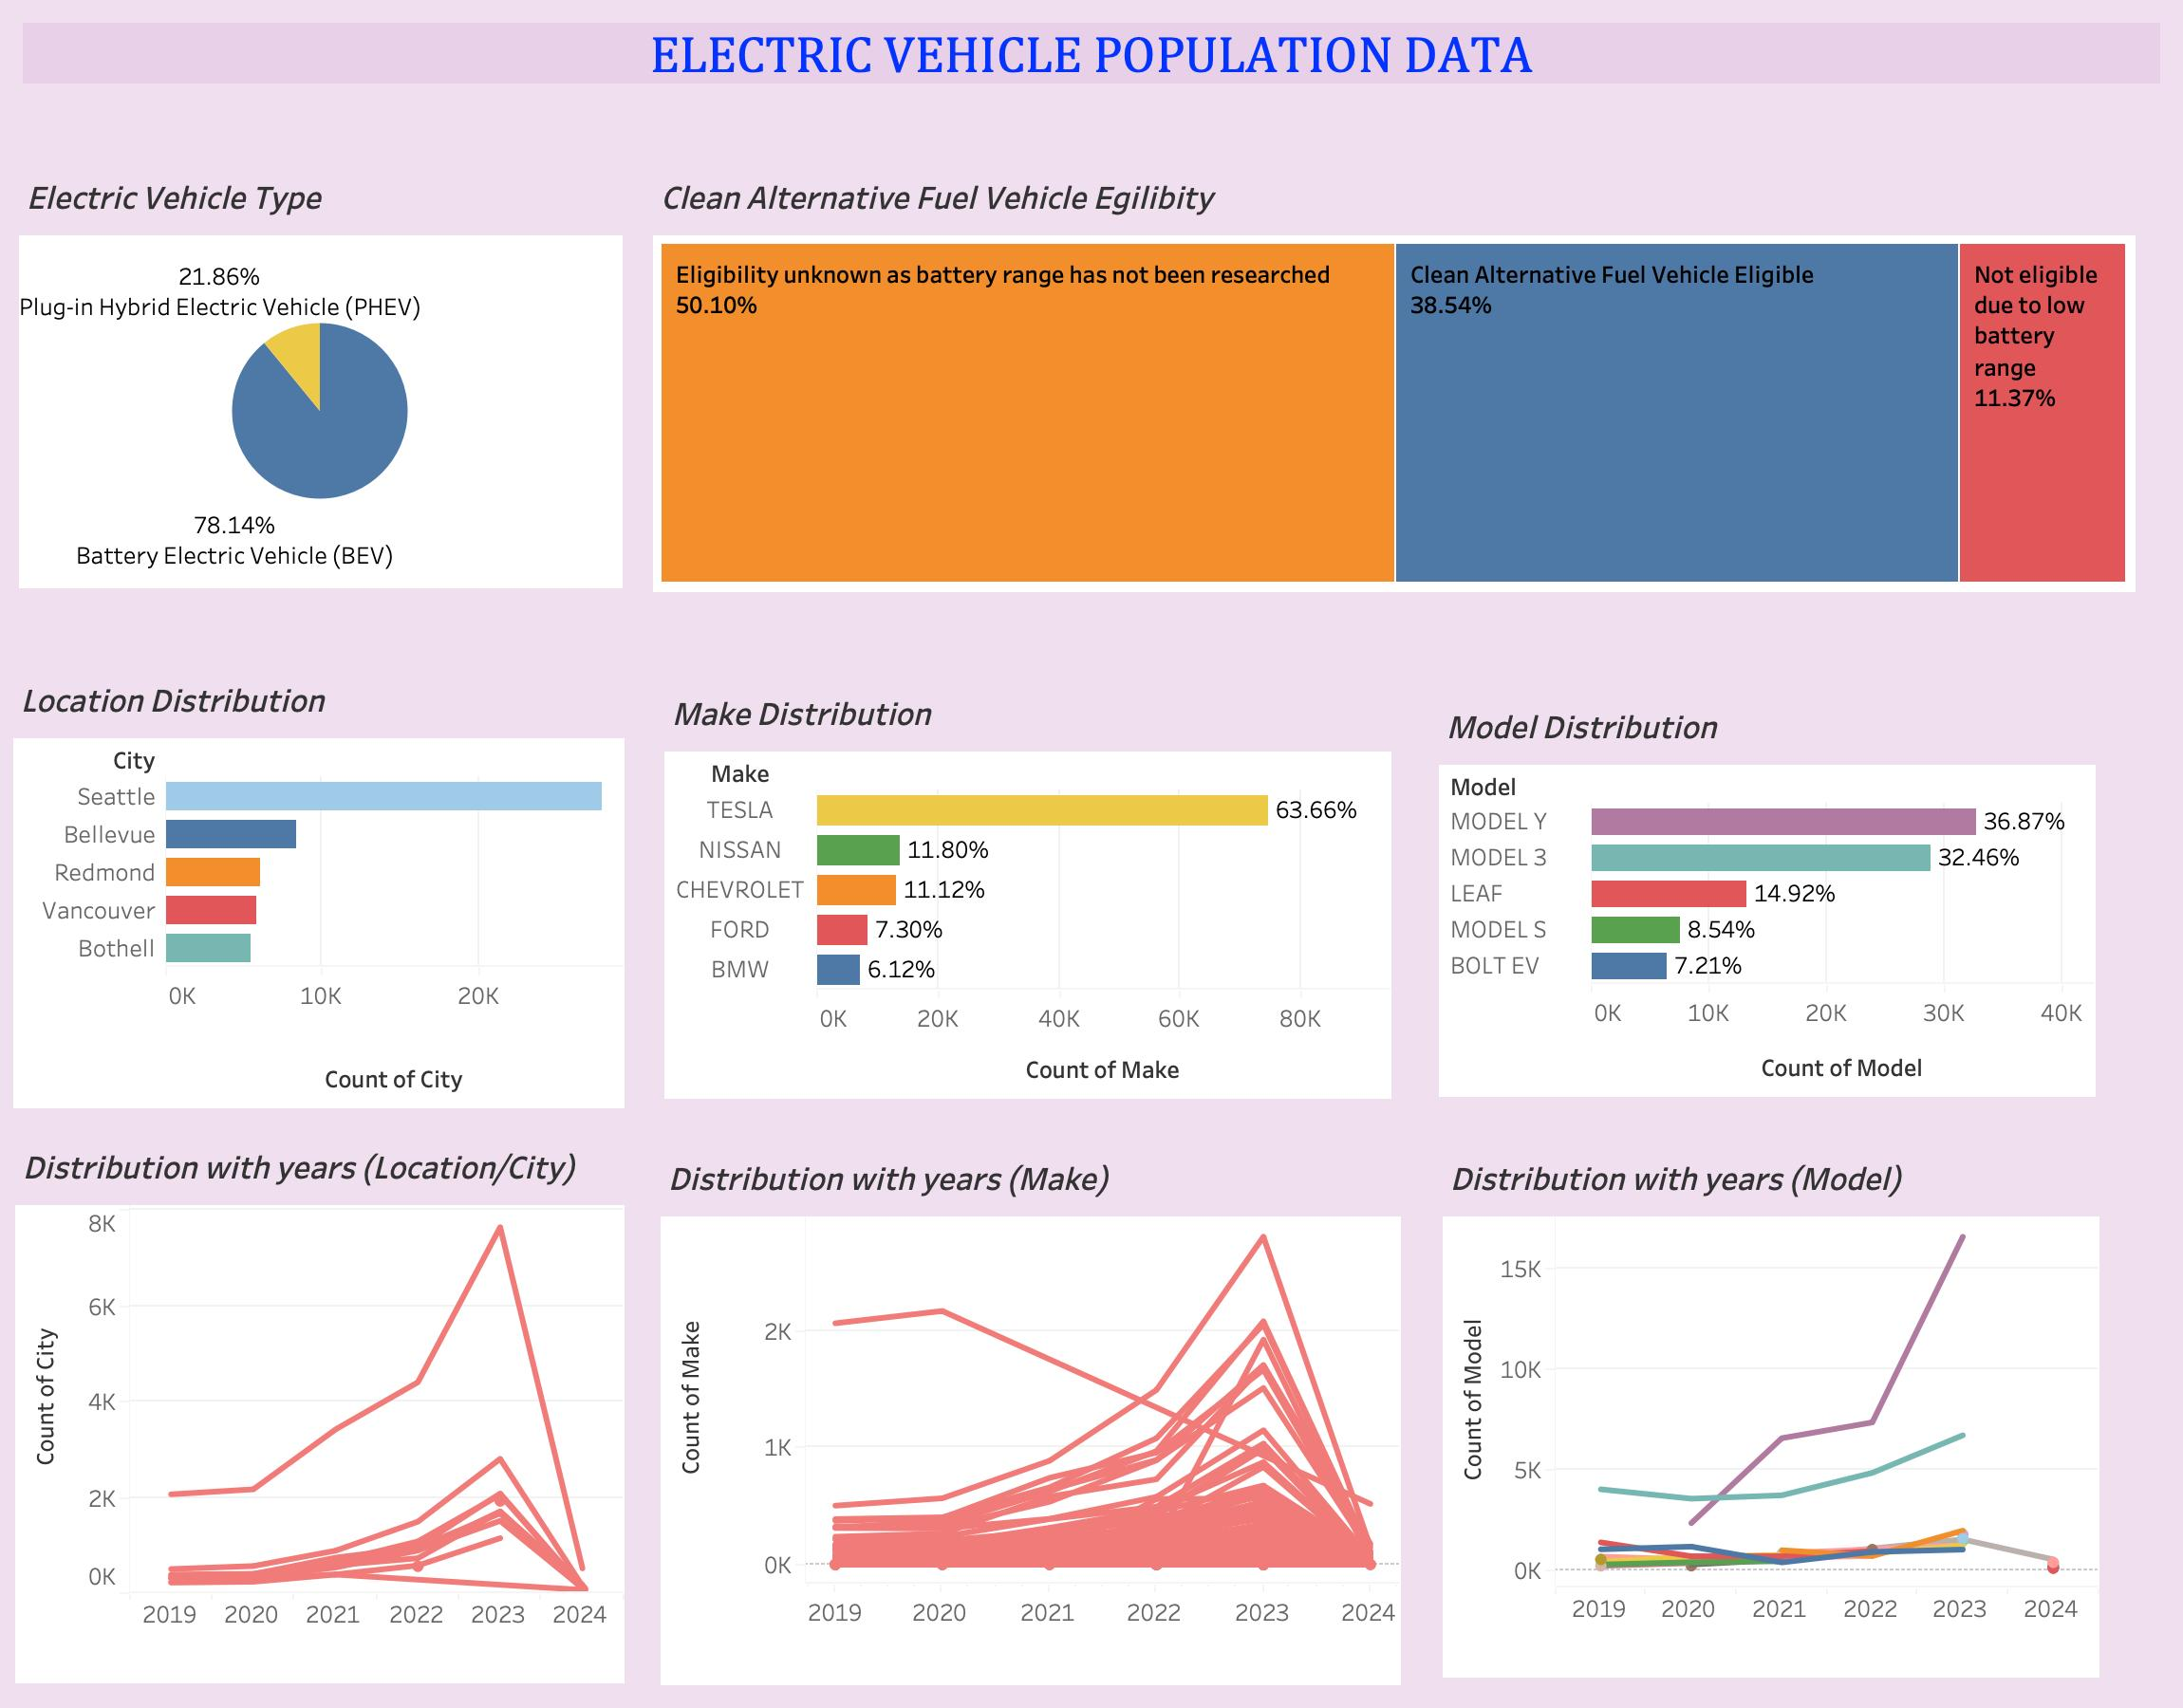

Layout of this report page (visuals, bound fields, positions):
{"tool":"tableau","page":{"name":"Dashboard 1","canvas":[1150,900],"ordinal":0},"visuals":[{"type":"title","box":[8,8,1134,40]},{"type":"worksheet","title":"Sheet 3","mark":"Automatic","box":[344,85,802,276]},{"type":"worksheet","title":"Sheet 2","mark":"Pie","box":[10,87,345,262]},{"type":"worksheet","title":"Sheet 4","mark":"Automatic","rows":["City"],"cols":["City"],"box":[7,352,348,532]},{"type":"worksheet","title":"Sheet 7","mark":"Bar","rows":["Make"],"cols":["Make"],"box":[350,359,389,272]},{"type":"worksheet","title":"Sheet 8","mark":"Automatic","rows":["Model"],"cols":["Model"],"box":[758,366,393,266]},{"type":"worksheet","title":"Sheet 5","mark":"Automatic","rows":["City"],"cols":["Model Year"],"box":[8,598,320,289]},{"type":"worksheet","title":"Sheet 6","mark":"Automatic","rows":["Make"],"cols":["Model Year"],"box":[348,604,389,284]},{"type":"worksheet","title":"Sheet 9","mark":"Automatic","rows":["Model"],"cols":["Model Year"],"box":[760,604,345,280]}]}

Visuals, with their boxes in screenshot pixels (x1, y1, x2, y2), scaled from the page's 1150x900 canvas onto the 2183x1708 screenshot:
title: (left=15, top=15, right=2168, bottom=91)
"Sheet 3" worksheet: (left=653, top=161, right=2175, bottom=685)
"Sheet 2" worksheet (Pie marks): (left=19, top=165, right=674, bottom=662)
"Sheet 4" worksheet: (left=13, top=668, right=674, bottom=1678)
"Sheet 7" worksheet (Bar marks): (left=664, top=681, right=1403, bottom=1197)
"Sheet 8" worksheet: (left=1439, top=695, right=2182, bottom=1199)
"Sheet 5" worksheet: (left=15, top=1135, right=623, bottom=1683)
"Sheet 6" worksheet: (left=661, top=1146, right=1399, bottom=1685)
"Sheet 9" worksheet: (left=1443, top=1146, right=2098, bottom=1678)
